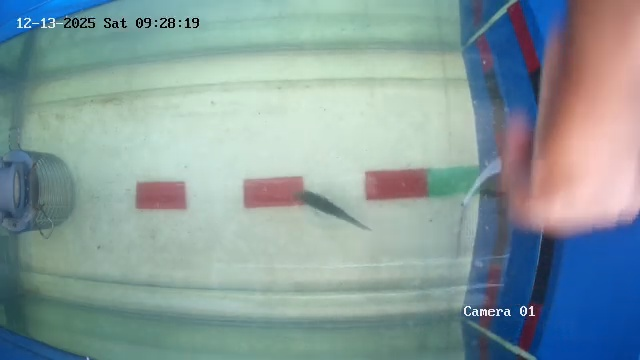fish: (299, 191, 374, 233)
